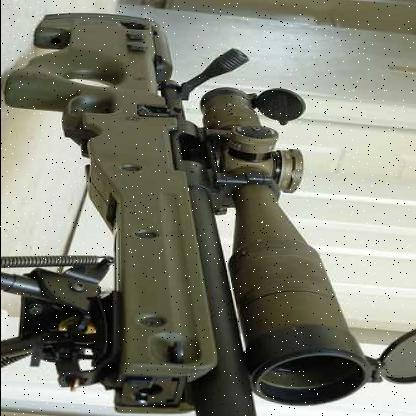rifle: (2, 15, 377, 415)
